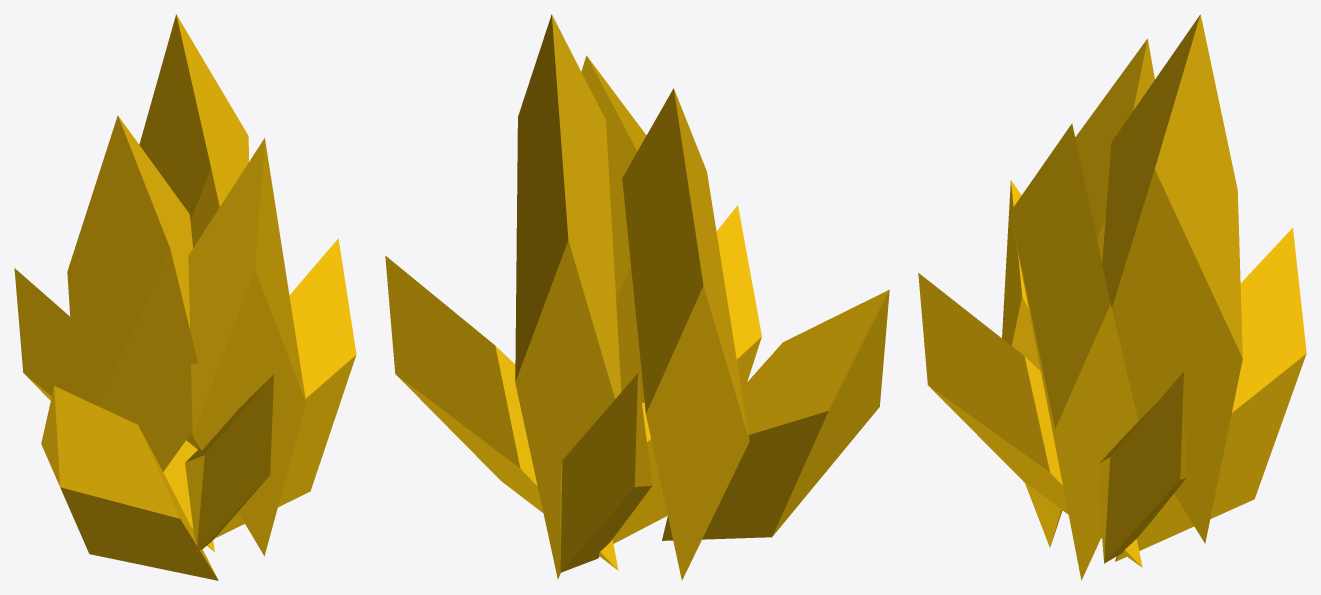
Rendered from campfire_fire_v1.fbx.
The picture shows the model from 3 angles, left to right: view 1: azimuth 30°, elevation 25°; view 2: azimuth 150°, elevation 25°; view 3: azimuth 270°, elevation 25°; orthographic projection. The views are drawn at different scales.
Visible parts, largest first — view 1: fire_4, fire_3, fire_7, fire_6, fire_5, fire_2, fire_1; view 2: fire_6, fire_4, fire_7, fire_5, fire_1, fire_3, fire_2; view 3: fire_6, fire_3, fire_2, fire_1, fire_5, fire_4, fire_7.
Boxes of the visible parts, x1,y1,x2,y2 form: fire_4: (67, 115, 197, 471); fire_3: (188, 138, 305, 556); fire_7: (41, 386, 218, 580); fire_6: (139, 14, 248, 449); fire_5: (214, 238, 356, 538); fire_2: (185, 374, 273, 553); fire_1: (14, 268, 214, 551); fire_6: (515, 14, 621, 579); fire_4: (622, 88, 749, 580); fire_7: (662, 289, 889, 540); fire_5: (385, 255, 618, 570); fire_1: (560, 373, 652, 572); fire_3: (581, 55, 646, 402); fire_2: (612, 205, 761, 543); fire_6: (1102, 14, 1242, 543); fire_3: (1010, 123, 1138, 580); fire_2: (918, 273, 1142, 567); fire_1: (1115, 228, 1306, 561); fire_5: (1098, 372, 1186, 563); fire_4: (1075, 39, 1154, 263); fire_7: (1002, 180, 1062, 547).
Bounding box in the file's own units: 1.25 × 1.67 × 1.07.
